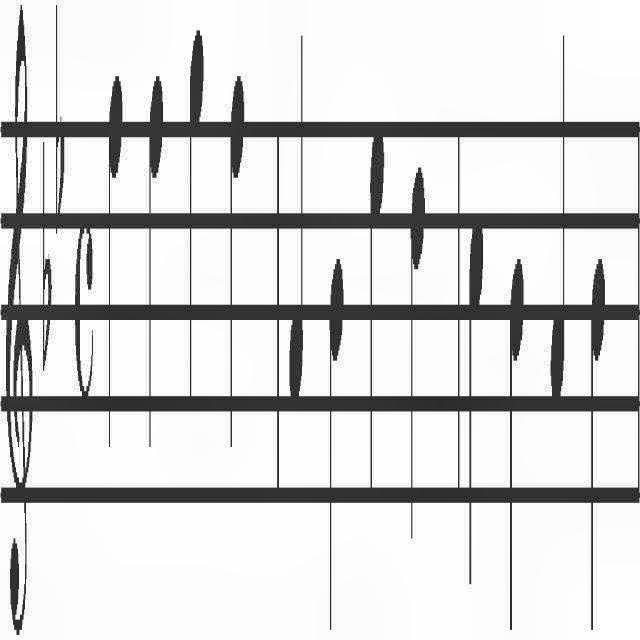Bass-clef: (5, 0, 32, 640)
Bemol: (41, 130, 53, 382), (56, 0, 64, 246)
Quarter-note: (288, 19, 306, 418), (409, 163, 427, 562), (230, 72, 247, 464), (368, 132, 386, 500), (188, 19, 204, 428), (148, 70, 164, 462), (590, 248, 606, 640), (550, 21, 566, 412), (468, 216, 484, 602), (328, 251, 344, 634), (508, 254, 524, 636), (108, 66, 122, 454)
